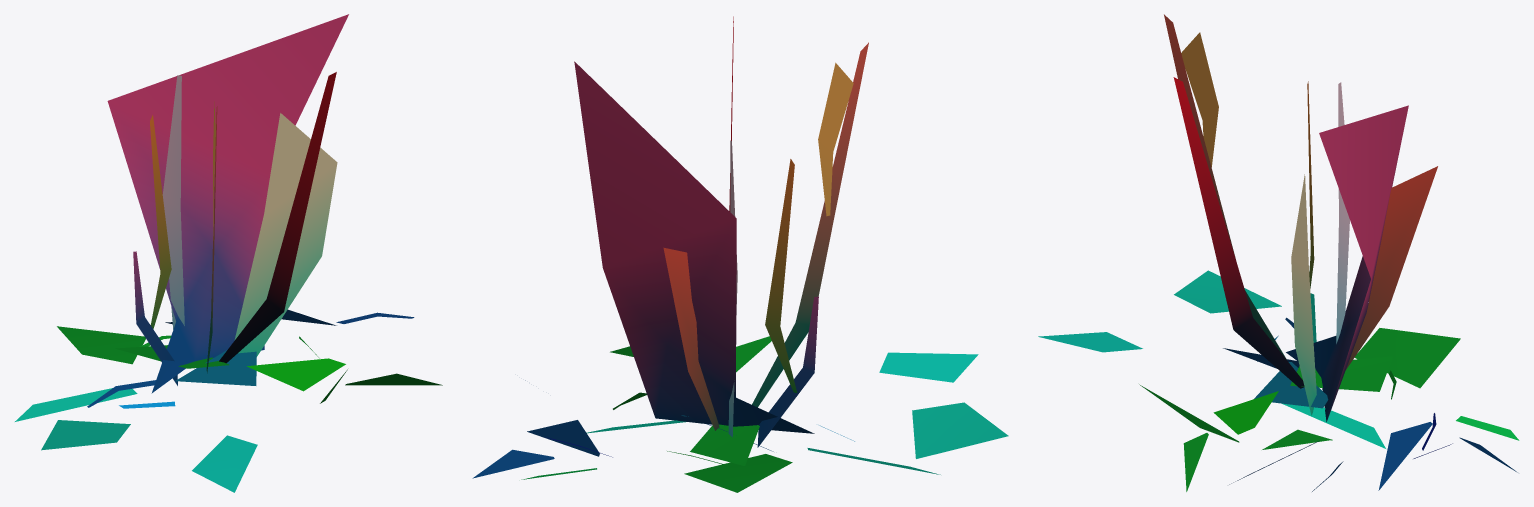
File: Dead_Shrubs_vdknafgha_Low_vdknafgha_VarD_LOD2.fbx
3 views of the same model, side by side, from view 1: azimuth 30°, elevation 25°; view 2: azimuth 150°, elevation 25°; view 3: azimuth 270°, elevation 25° (orthographic). The views are drawn at different scales.
Visible parts, largest first — view 1: _b3et_VarD_LOD3; view 2: _b3et_VarD_LOD3; view 3: _b3et_VarD_LOD3.
Boxes of the visible parts, box(x1,y1,x2,y2) form: _b3et_VarD_LOD3: box(15, 14, 442, 492); _b3et_VarD_LOD3: box(472, 16, 1008, 492); _b3et_VarD_LOD3: box(1038, 14, 1519, 491).
Size of the model in its own units: 42.54 by 33.63 by 40.41.
